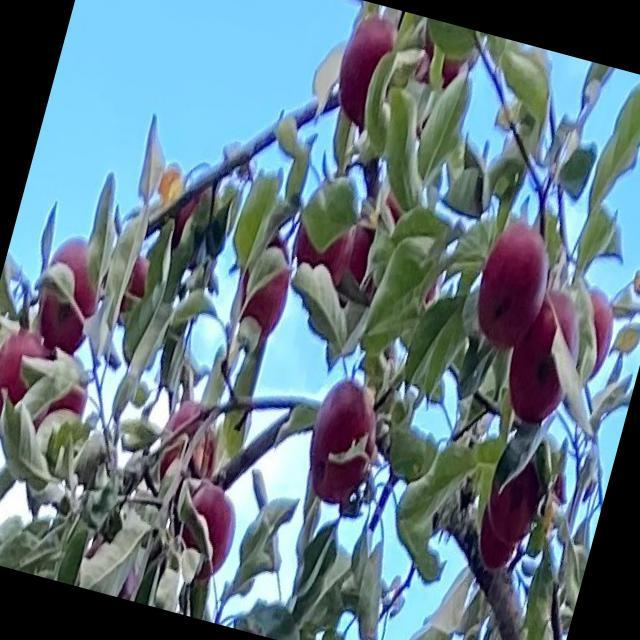100-_ripeness: (501, 283, 587, 423), (467, 228, 558, 354), (299, 378, 389, 503), (30, 228, 114, 358), (328, 11, 404, 130), (481, 429, 559, 541), (338, 190, 406, 300), (153, 397, 227, 497), (171, 484, 242, 580), (234, 240, 300, 340), (290, 199, 360, 285), (565, 286, 623, 384), (0, 329, 52, 430), (32, 361, 94, 437), (168, 176, 220, 257), (416, 19, 474, 90), (469, 512, 524, 576), (112, 247, 154, 317)
